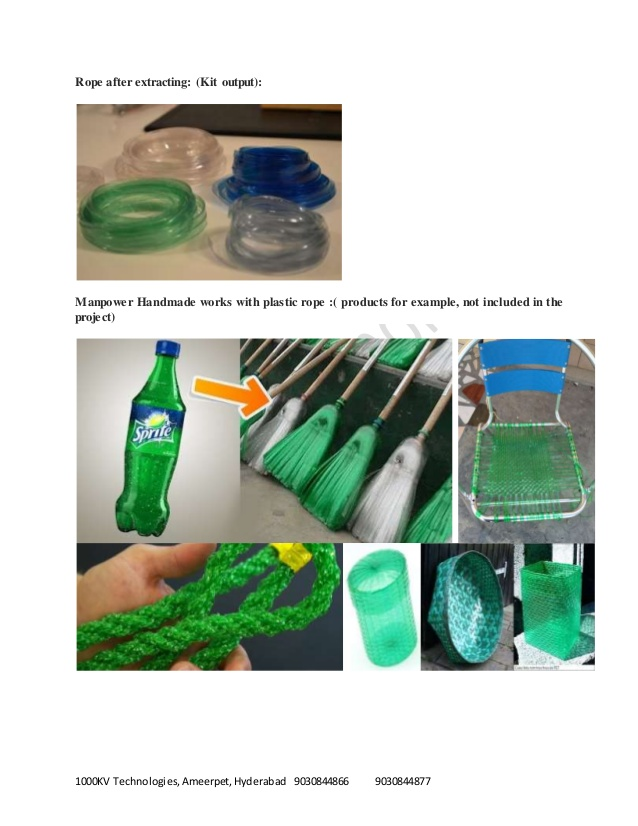plastic_bottle: (90, 319, 266, 588)
